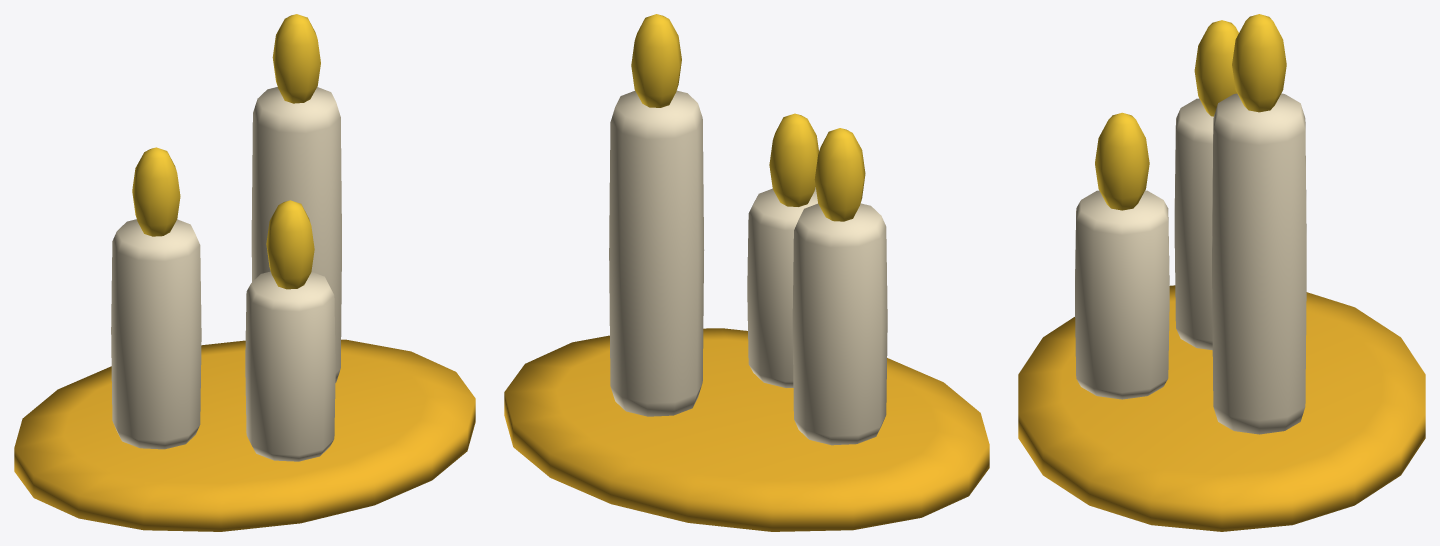
The model's file is candles.glb.
3 renders of one model, left to right at view 1: azimuth 30°, elevation 25°; view 2: azimuth 150°, elevation 25°; view 3: azimuth 270°, elevation 25°, orthographic. The views are drawn at different scales.
Visible parts, largest first — view 1: item; view 2: item; view 3: item.
Boxes of the visible parts, bbox=[...] form: item: bbox=[14, 14, 475, 531]; item: bbox=[504, 14, 989, 531]; item: bbox=[1018, 14, 1425, 531].
Bounding box in the file's own units: 0.4291 × 0.4 × 0.3265.
1 material, 1 textured.
